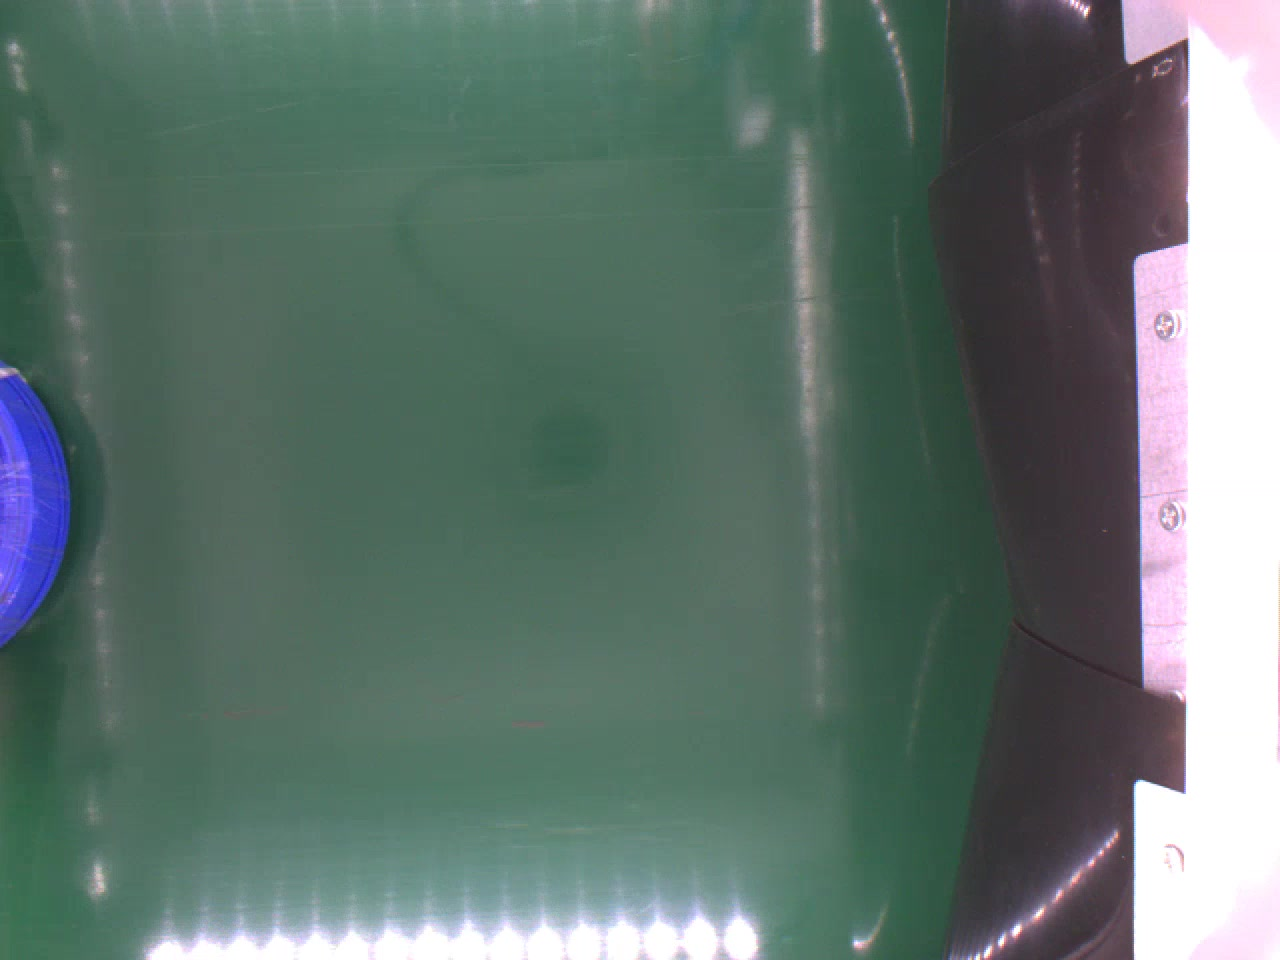blue: (0, 354, 77, 655)
